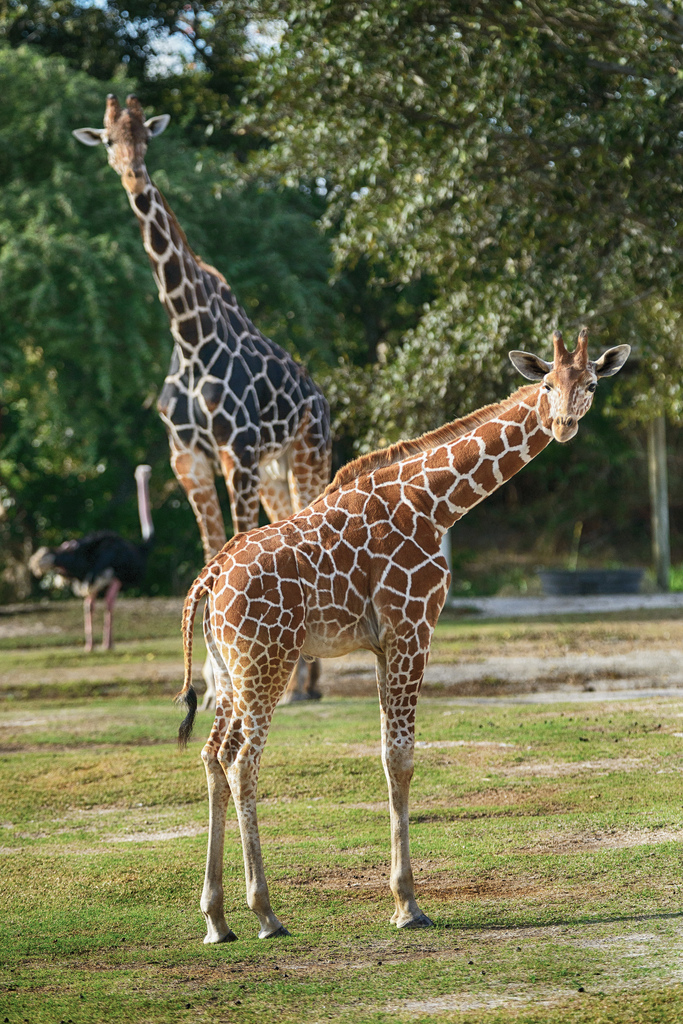giraffe: (154, 341, 646, 964), (92, 79, 354, 552)
